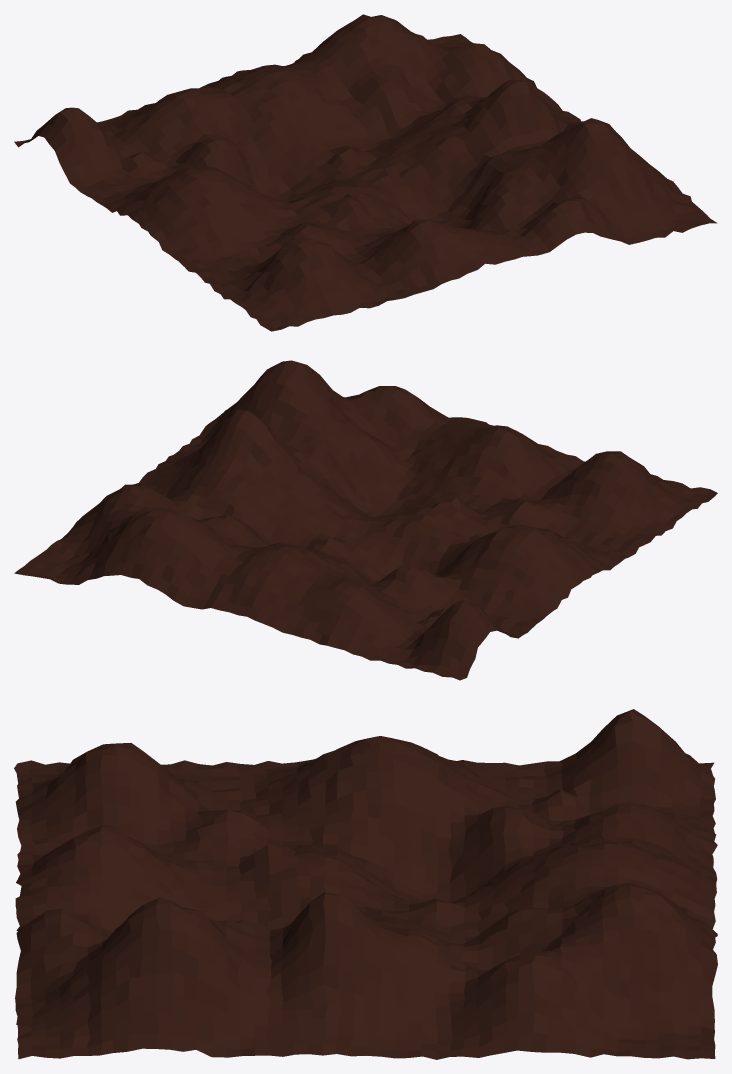
The model's file is trashlandbase.fbx.
The picture shows the model from 3 angles, top to bottom: view 1: azimuth 30°, elevation 25°; view 2: azimuth 150°, elevation 25°; view 3: azimuth 270°, elevation 25°; orthographic projection. The views are drawn at different scales.
Visible parts, largest first — view 1: Plane001; view 2: Plane001; view 3: Plane001.
Boxes of the visible parts, box(x1,y1,x2,y2) form: Plane001: box(14, 14, 717, 331); Plane001: box(14, 360, 717, 680); Plane001: box(14, 709, 717, 1059).
Bounding box in the file's own units: 20230 × 4484 × 20202.
